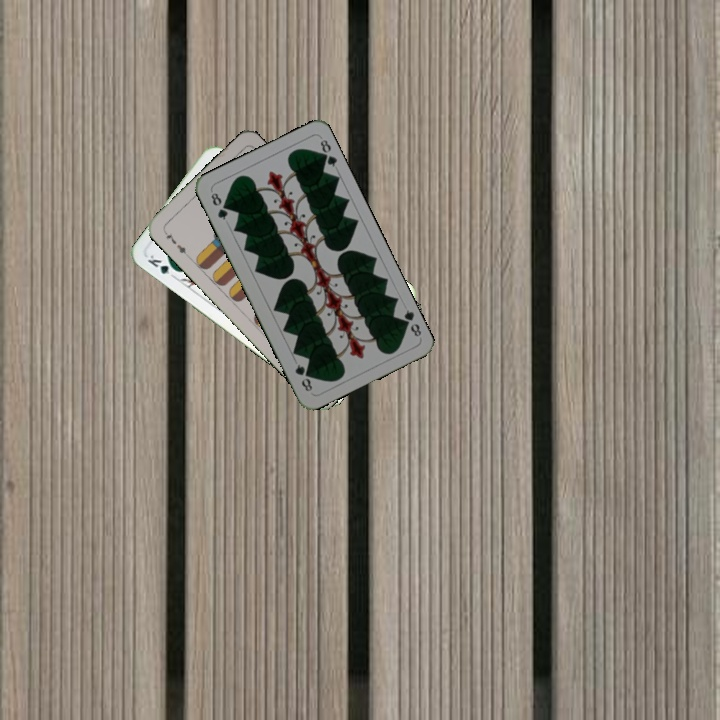E7: (160, 227, 189, 257)
G8: (396, 305, 424, 339), (207, 188, 231, 223)
GK: (143, 251, 181, 281)
